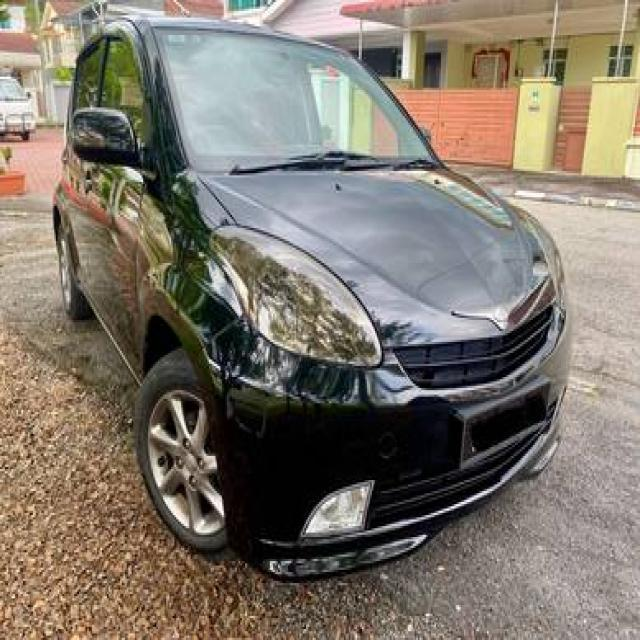PeroduaMyvi: (49, 9, 574, 581)
